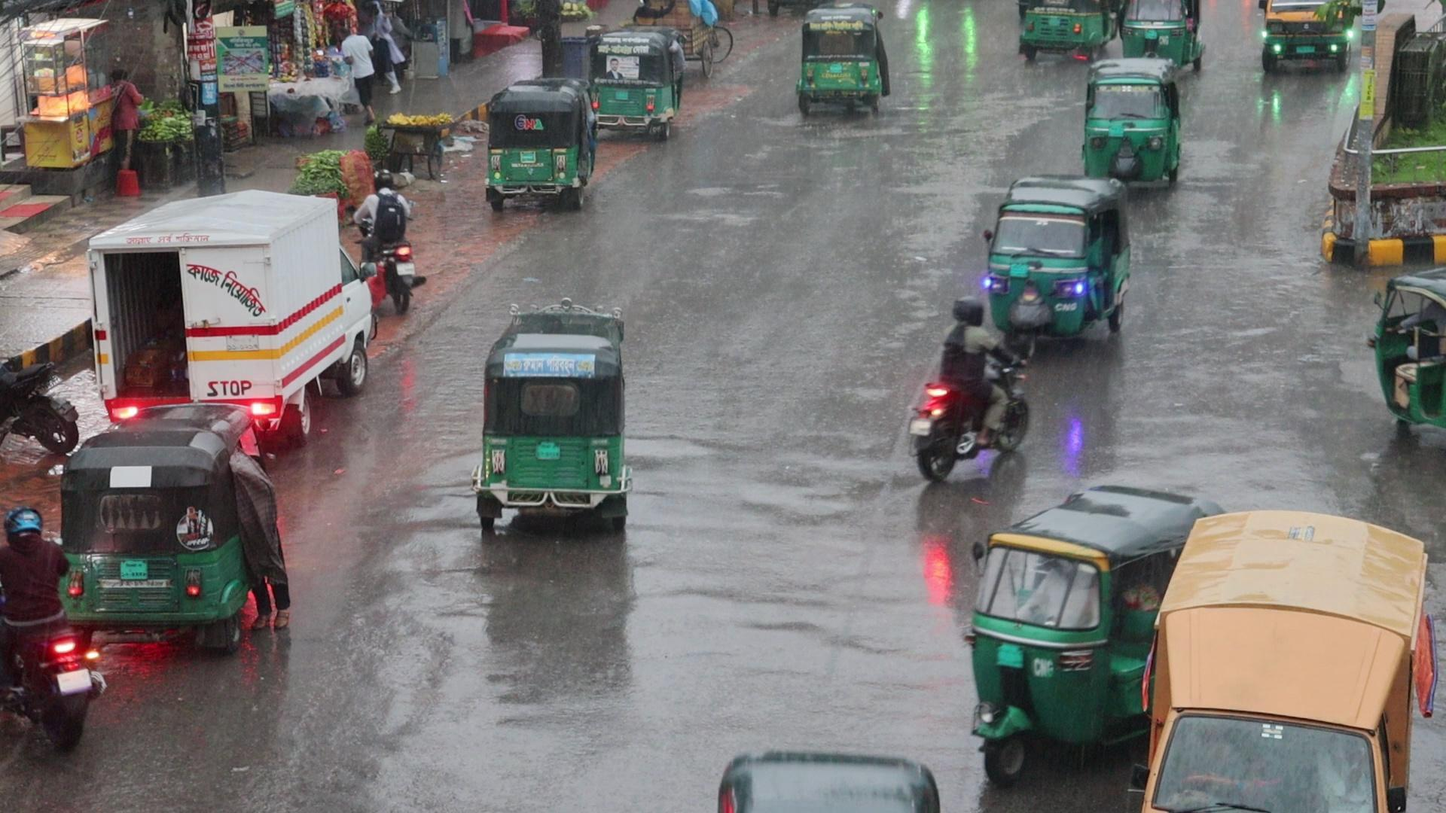Bike: (911, 301, 1033, 501), (354, 170, 427, 332)
Truck: (1151, 516, 1441, 813)
